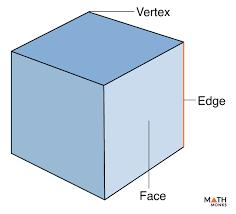cube: (11, 14, 184, 201)
